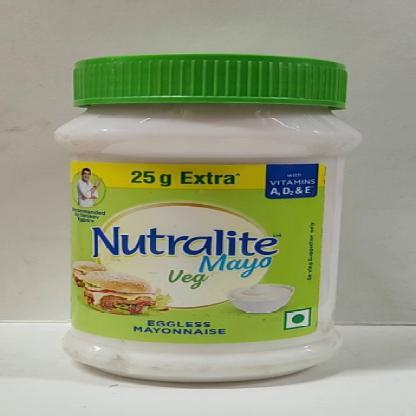Nutralite VEG MAYO 300g-275g-25g-: (57, 48, 354, 382)
